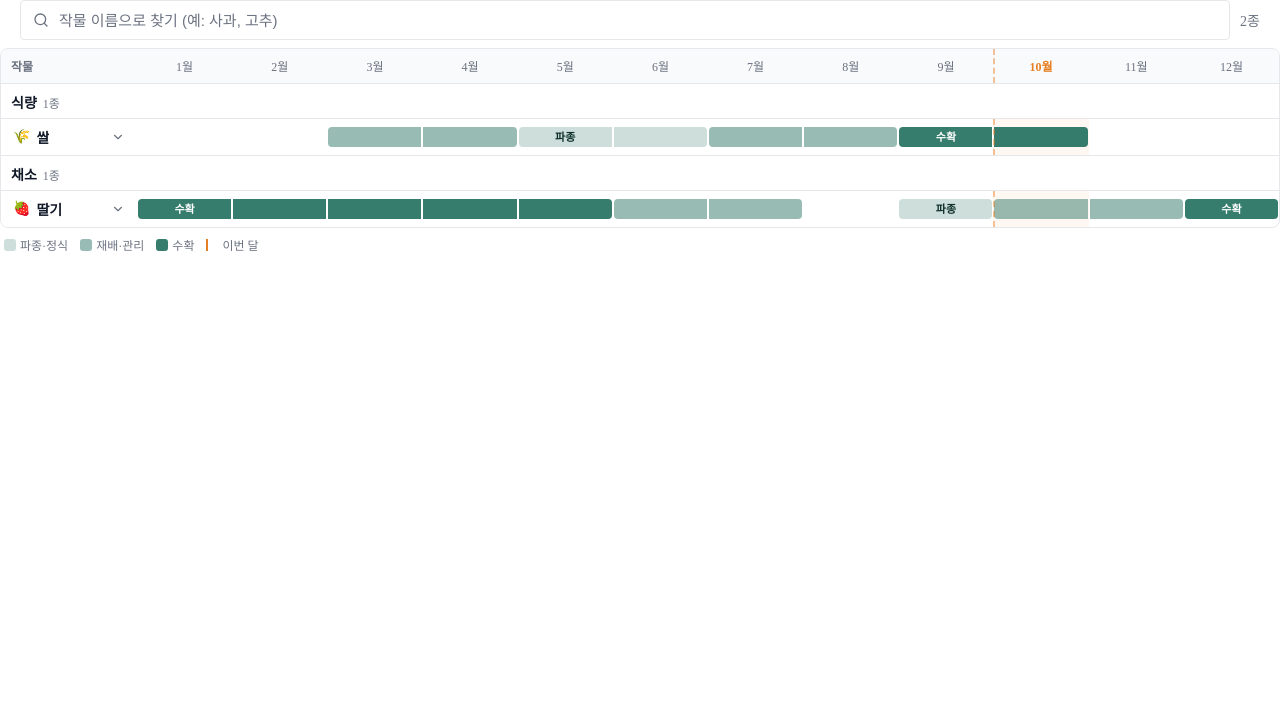
Test: FarmingCalendar 행 확장 › 같은 행을 다시 누르면 닫히고, 열릴 때만 GA 이벤트를 보낸다
Step 1. Click the button "🍓 딸기" → point(69, 209), box [13, 199, 125, 219]
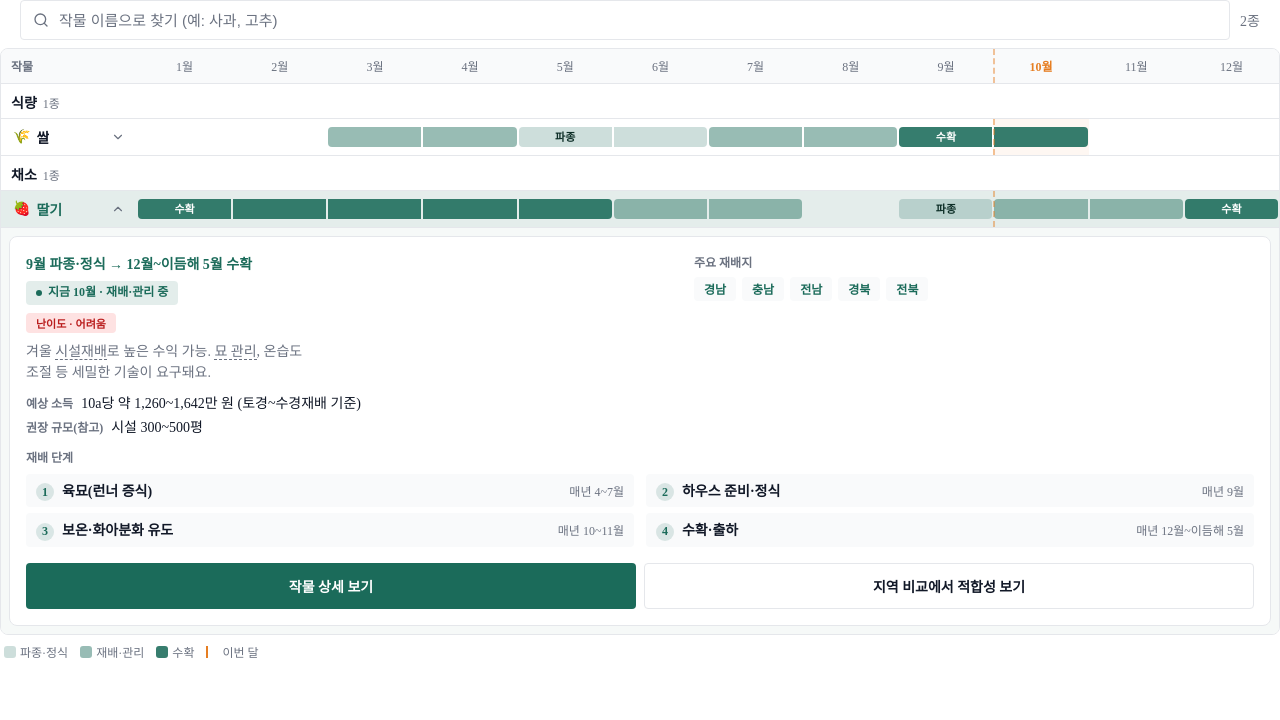
Step 2. Click the button "🍓 딸기" → point(69, 209), box [13, 199, 125, 219]
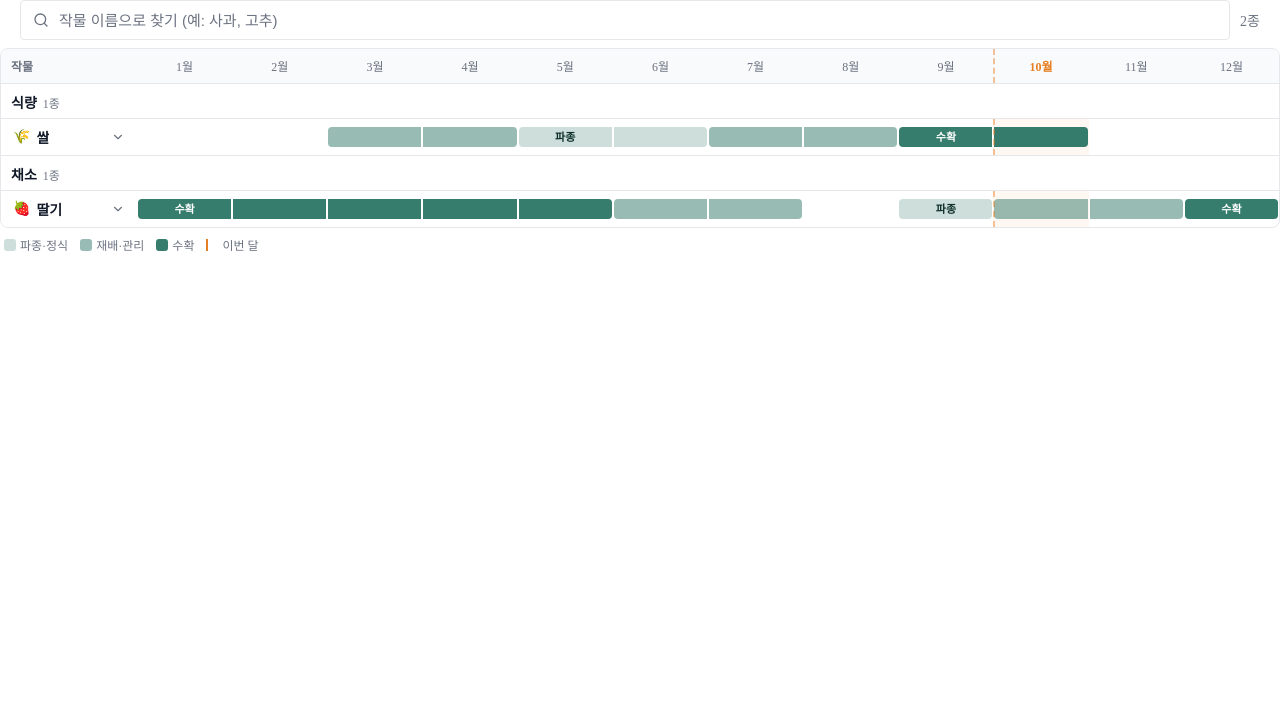
Expected: the button "🍓 딸기" is collapsed, [13, 199, 125, 219]
